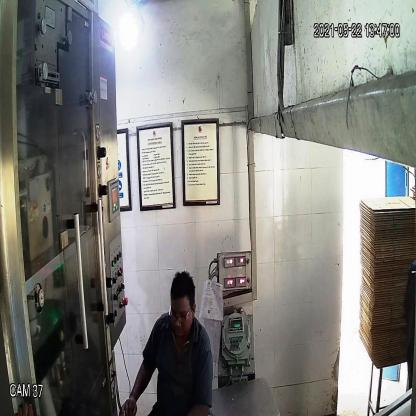goggles: (164, 306, 195, 328)
